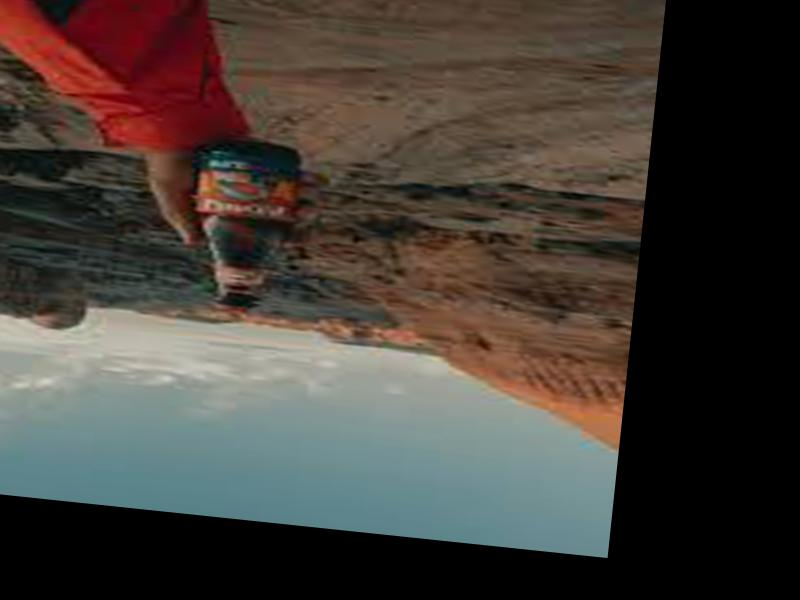Beer: (174, 136, 307, 313)
